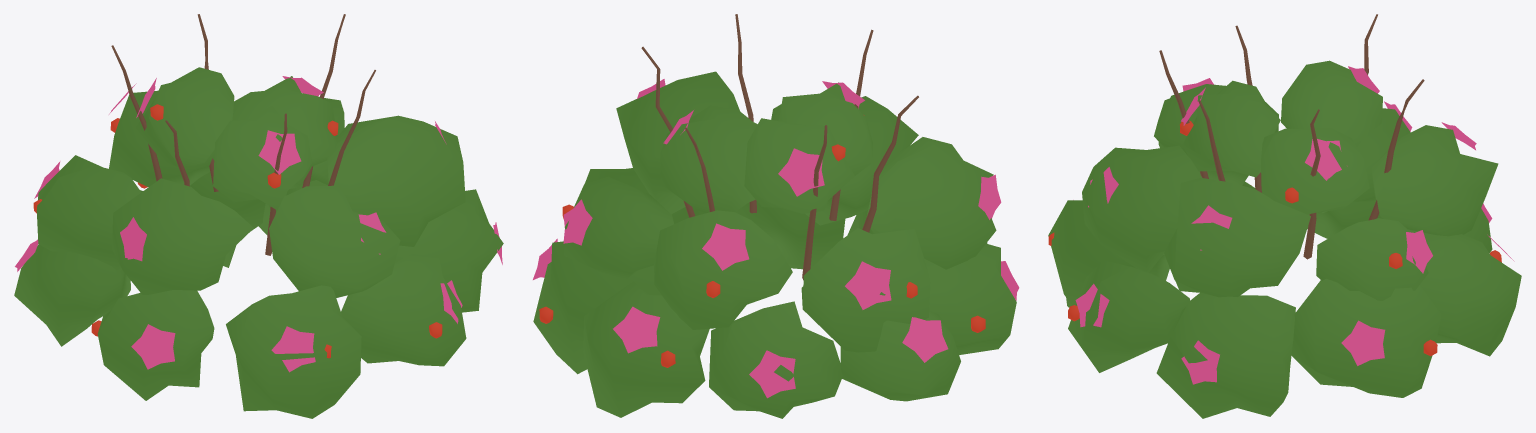
The model's file is Blender_BeachRose_1.glb.
The picture shows the model from 3 angles, left to right: view 1: azimuth 30°, elevation 25°; view 2: azimuth 150°, elevation 25°; view 3: azimuth 270°, elevation 25°; orthographic projection. The views are drawn at different scales.
Parts seen in each view (by area): view 1: Blender_BeachRose_1; view 2: Blender_BeachRose_1; view 3: Blender_BeachRose_1.
Boxes of the visible parts, bbox=[...] form: Blender_BeachRose_1: bbox=[14, 14, 503, 418]; Blender_BeachRose_1: bbox=[533, 14, 1019, 418]; Blender_BeachRose_1: bbox=[1048, 14, 1521, 418].
Bounding box in the file's own units: 2.35 × 1.5 × 2.33.
